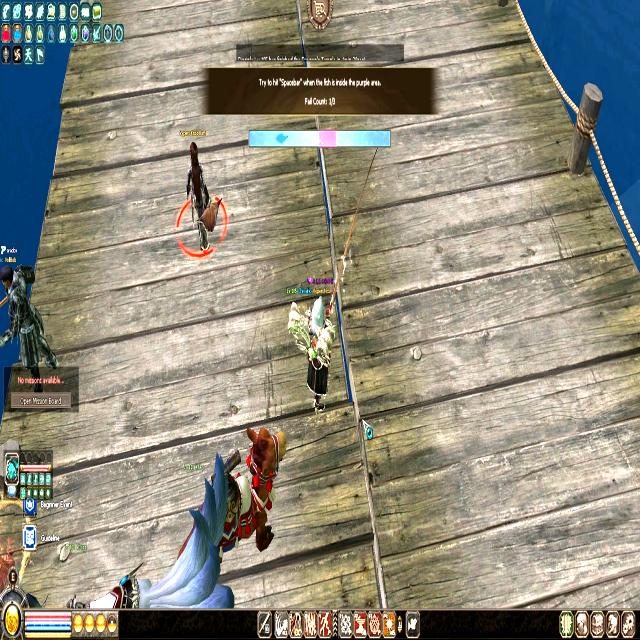fishes: (275, 132, 287, 144)
